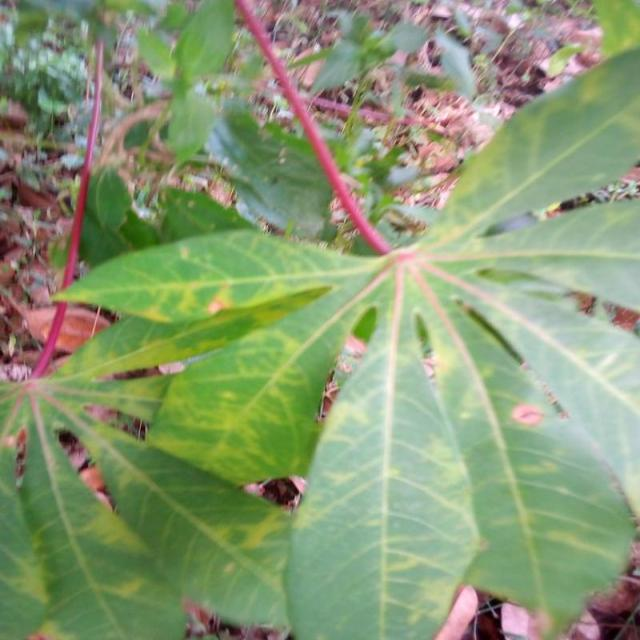cassava leaf: (1, 11, 639, 639)
